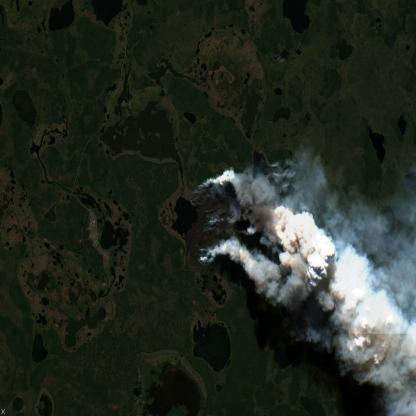fire: (183, 161, 300, 273)
